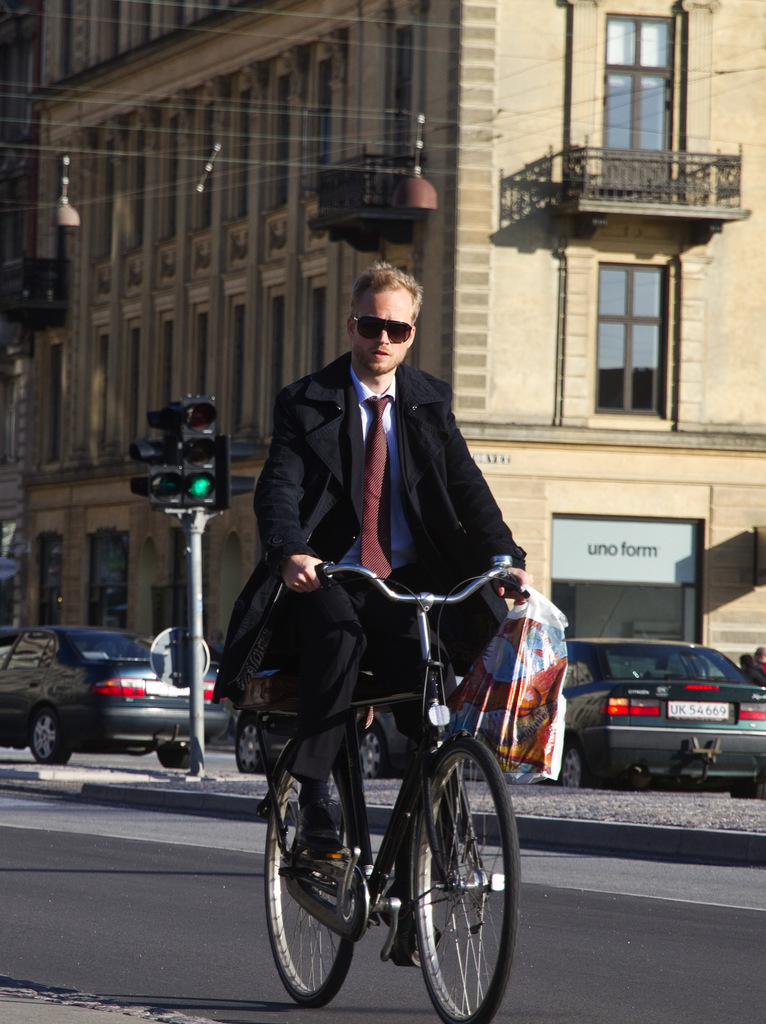Bike: (264, 552, 537, 1019)
